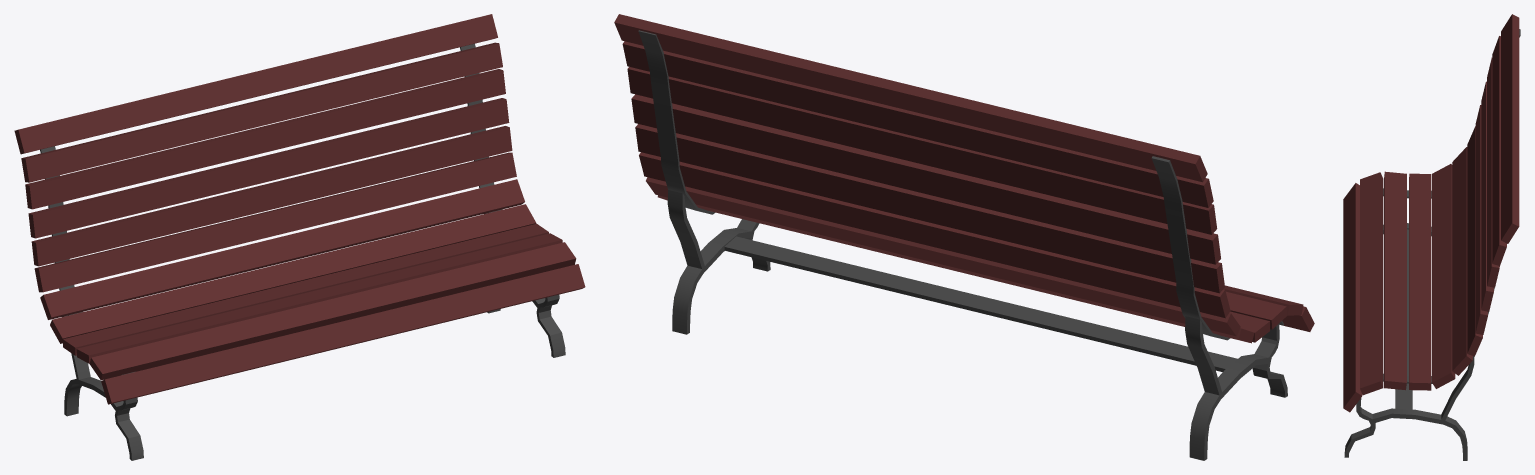
Rendered from Bench.fbx.
The picture shows the model from 3 angles, left to right: view 1: azimuth 30°, elevation 25°; view 2: azimuth 150°, elevation 25°; view 3: azimuth 270°, elevation 25°; orthographic projection. The views are drawn at different scales.
Parts seen in each view (by area): view 1: pCube19; view 2: pCube19; view 3: pCube19.
Part boxes in pixels (x1,y1,x2,y2): pCube19: (14, 14, 585, 460); pCube19: (614, 14, 1314, 460); pCube19: (1343, 14, 1520, 460).
Bounding box in the file's own units: 291 × 160 × 104.
